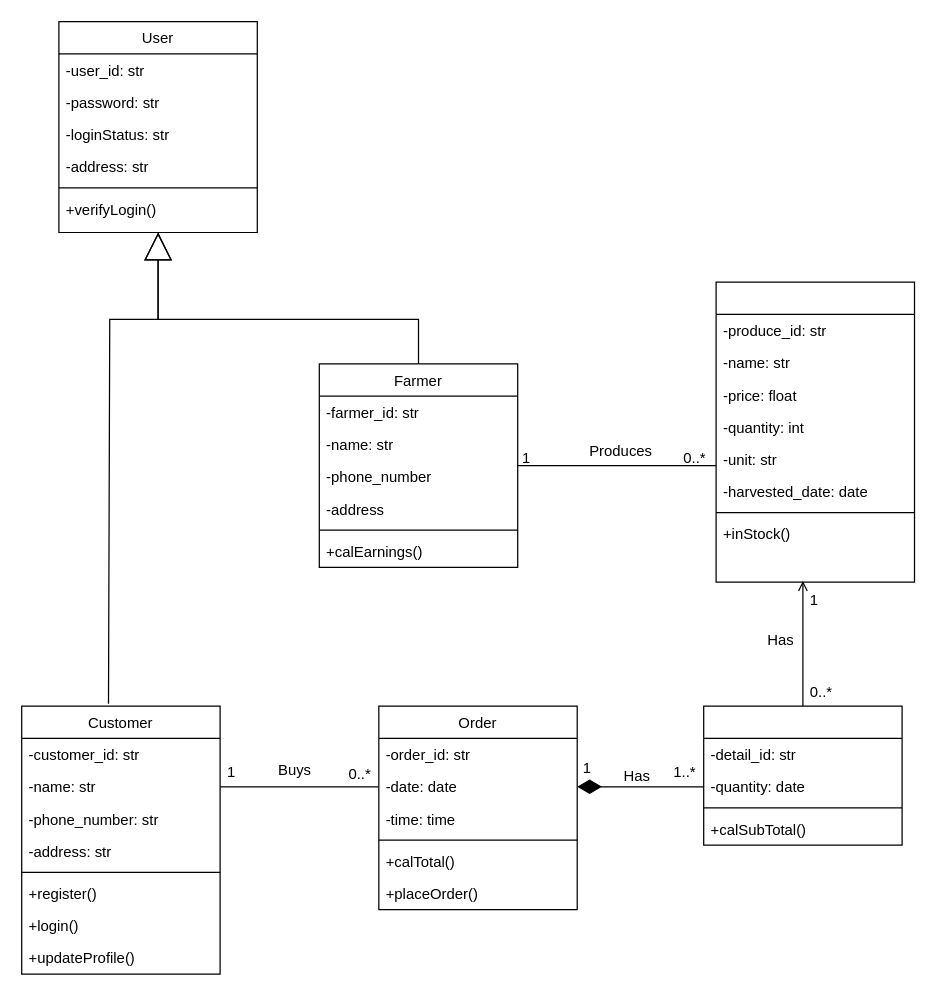
The diagram is 936 pixels wide and 999 high, and some of its shapes have lost their labels. Each missing label, with the box of its shape:
Item: (715, 281, 914, 582)
Order_details: (702, 705, 902, 845)
